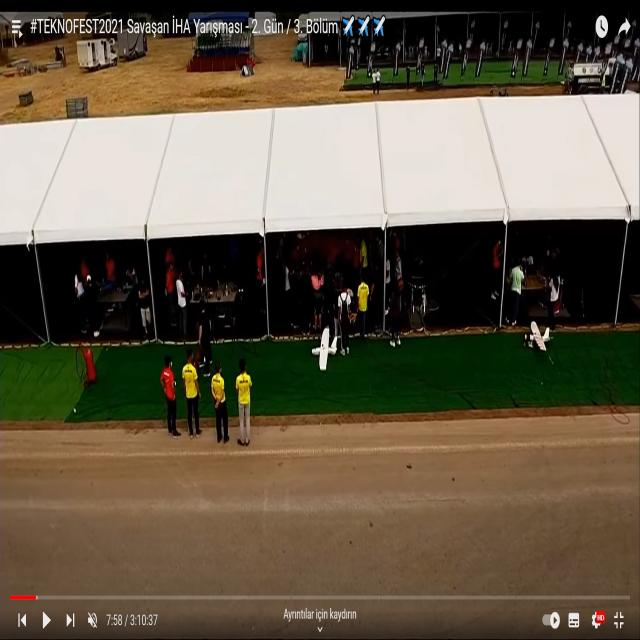iha: (311, 327, 338, 375)
